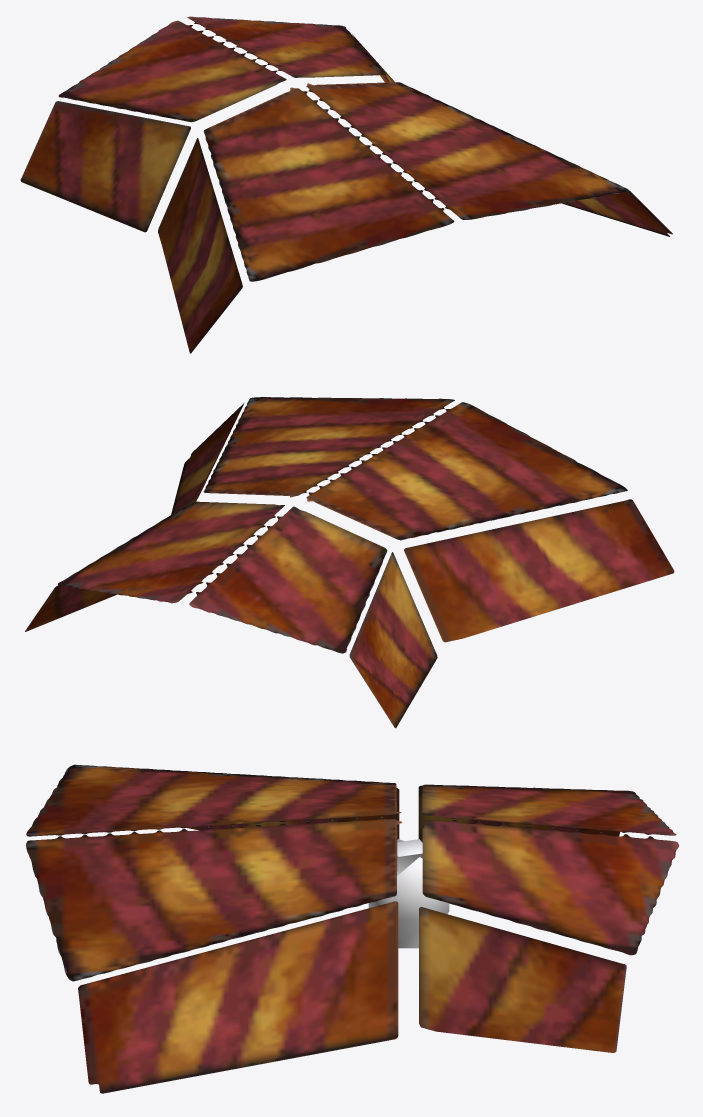
File: wall_sconce_var10.fbx
3 renders of one model, top to bottom at view 1: azimuth 30°, elevation 25°; view 2: azimuth 150°, elevation 25°; view 3: azimuth 270°, elevation 25°, orthographic. The views are drawn at different scales.
Visible parts, largest first — view 1: mesh_0; view 2: mesh_0; view 3: mesh_0, mesh_1.
Part boxes in pixels (x1=…): mesh_0: x1=20, y1=16, x2=672, y2=353; mesh_0: x1=25, y1=397, x2=674, y2=728; mesh_0: x1=26, y1=764, x2=678, y2=1093; mesh_1: x1=368, y1=839, x2=449, y2=948.
Size of the model in its own units: 33.98 by 7.84 by 33.52.
2 materials, 2 textured.
